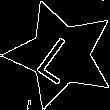L_NE: (32, 25, 89, 84)
